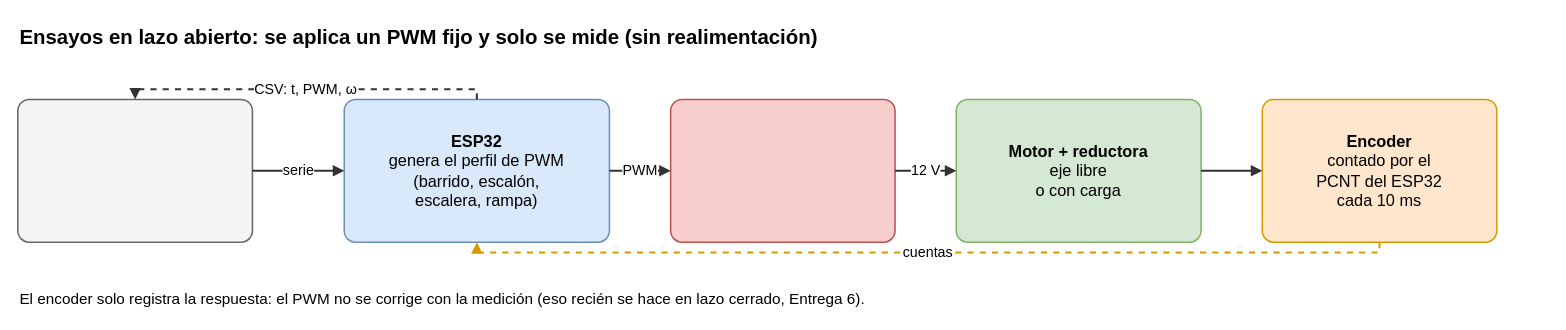
The diagram is 1566 pixels wide and 330 high, and some of its shapes have lost their labels. Here are the shapes that lost their labels. From the top down, the centre of each, then its label:
the point at 135,170: PC script de Python: manda el ensayo, guarda el CSV y grafica
the point at 782,170: Driver IBT-2 (J1) L298N (5840, E5)
